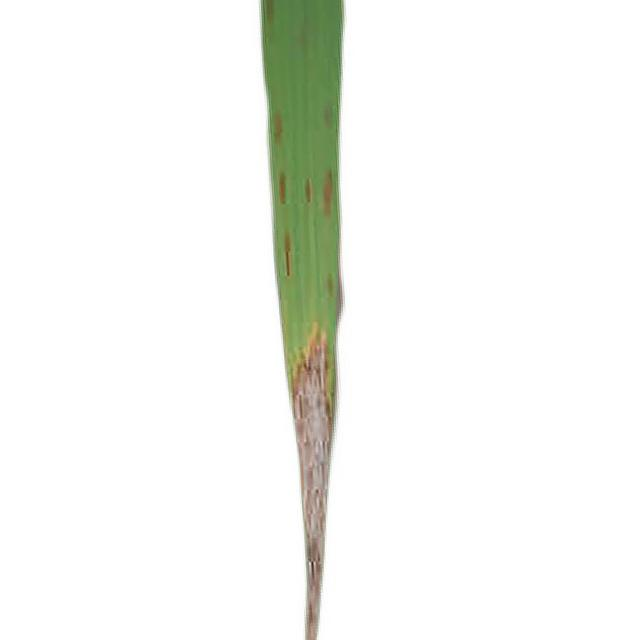Leaf scald: (79, 0, 434, 640)
